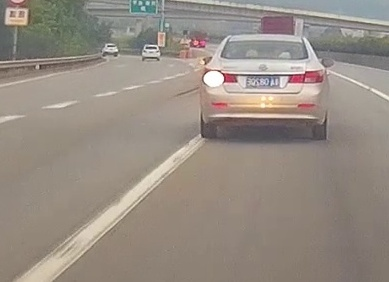L_light: (202, 67, 238, 83)
R_light: (287, 68, 325, 83)
T_light: (254, 57, 275, 59)
day-left: (199, 34, 328, 140)
